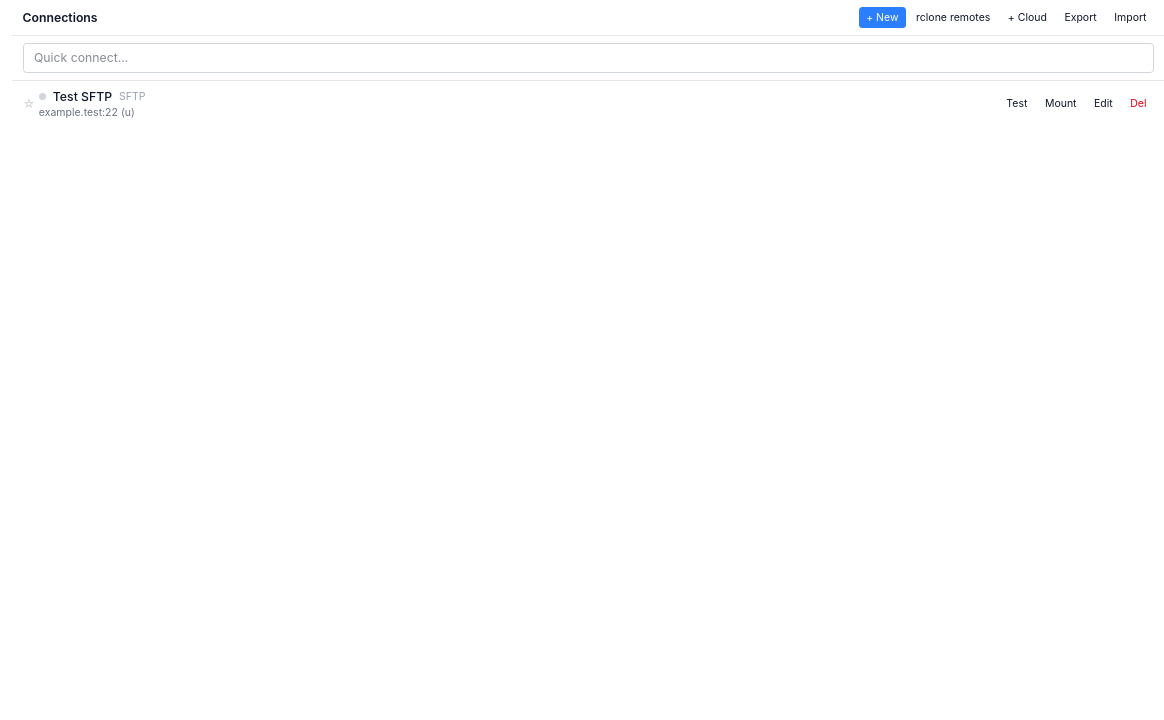
it: ConnectionPanel remote browser › connects and lists remote files
Click the text "Test SFTP" at (82, 97), box [53,88,112,106]
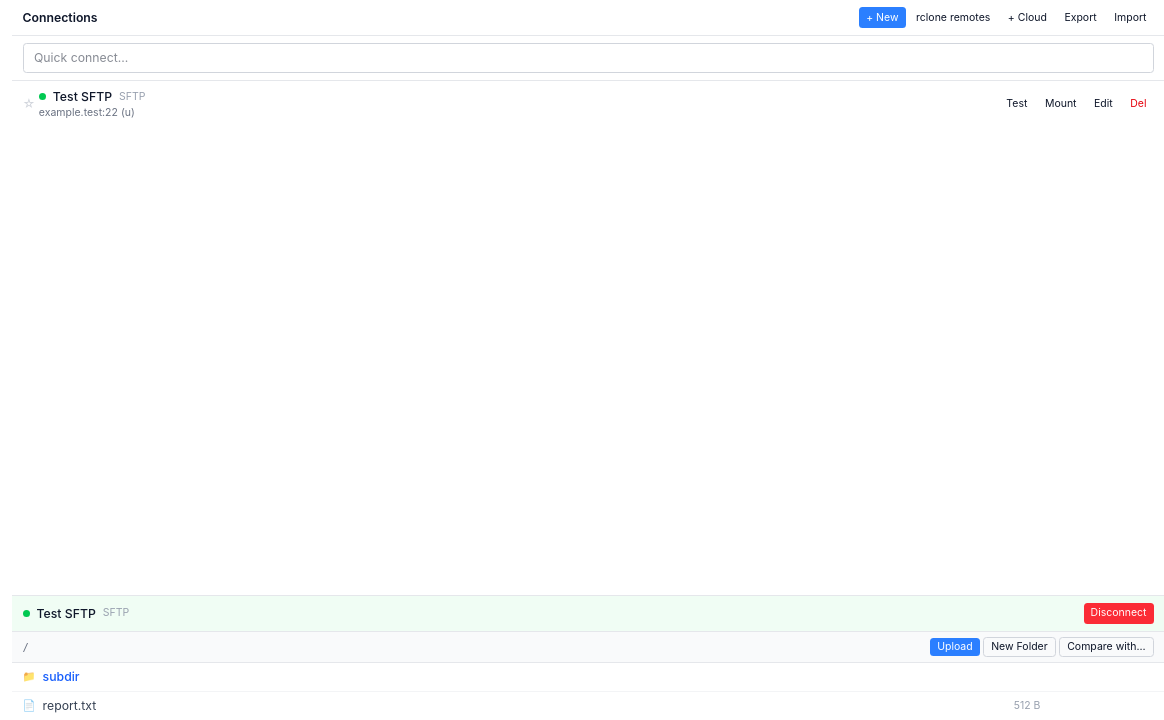
Expected: the text "report.txt" is shown, [43,697,96,715]
